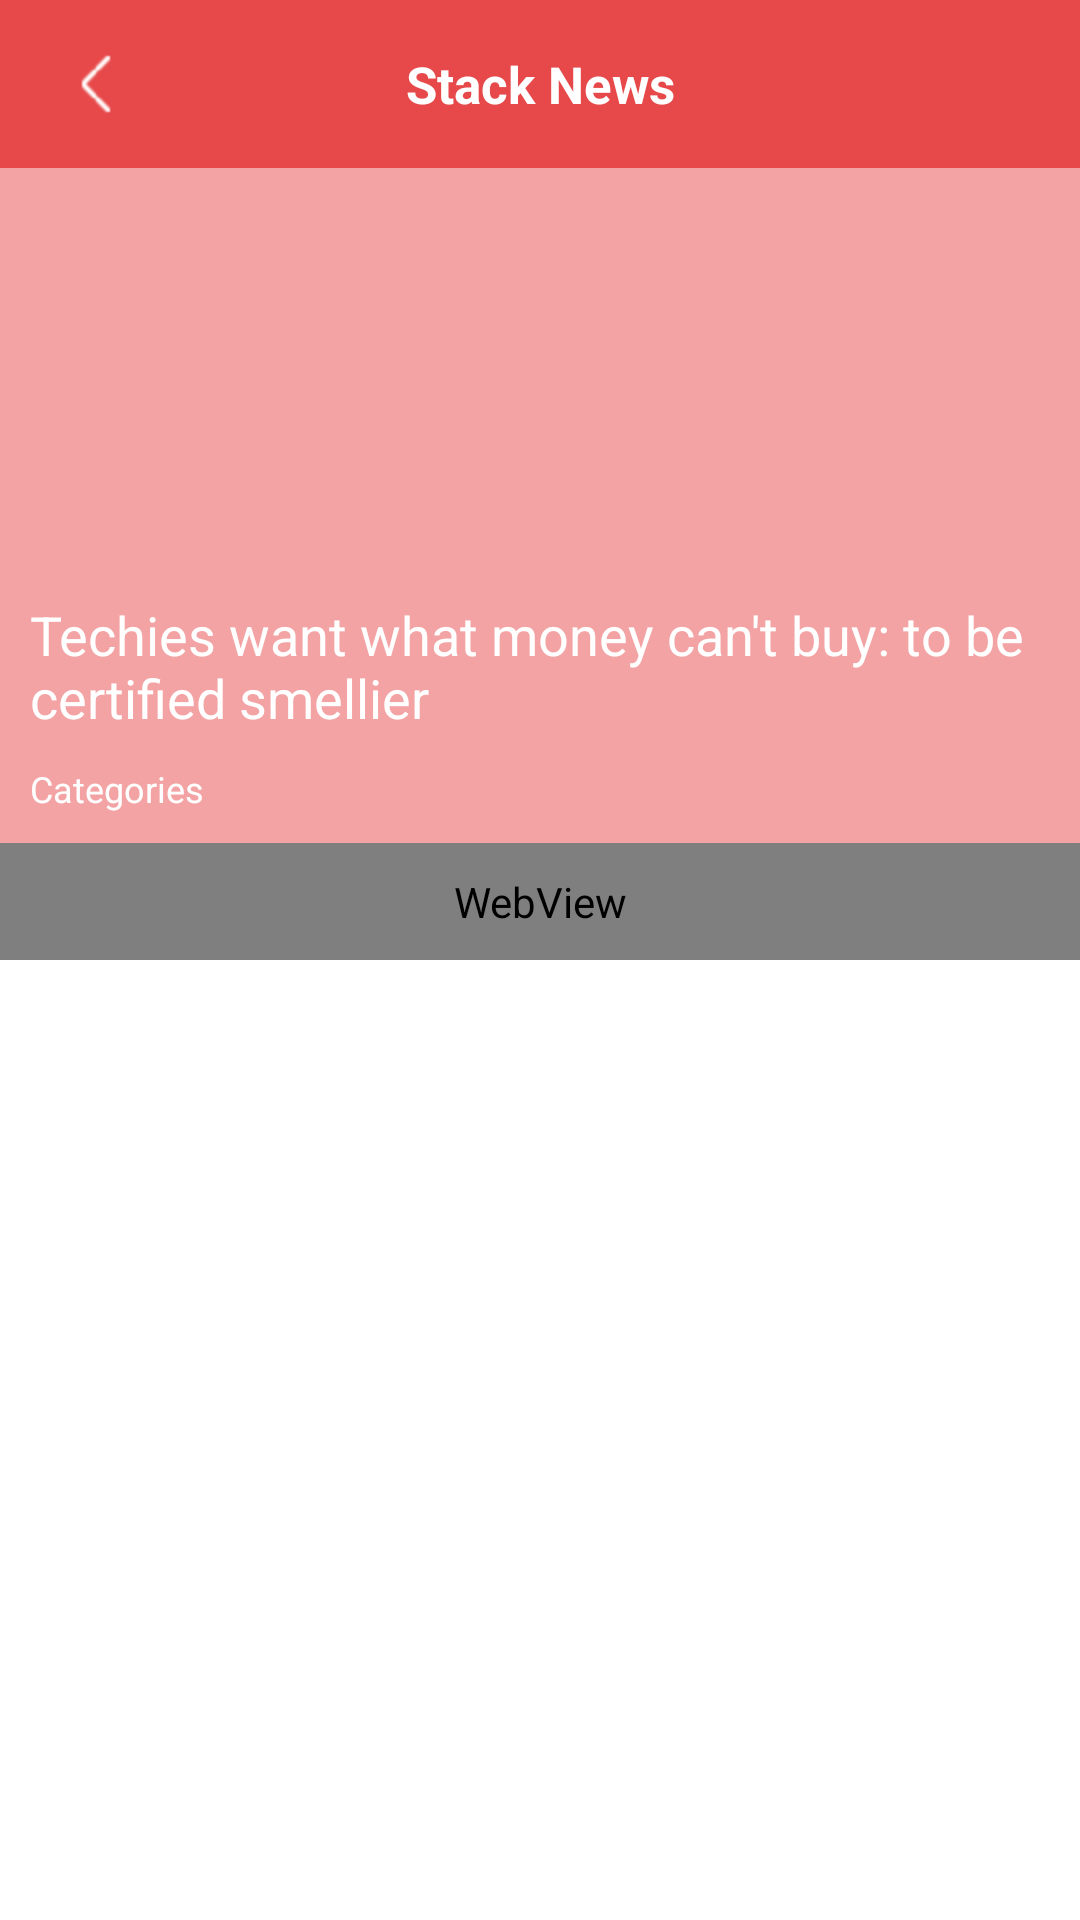

Screen size 1080 x 1920. Icon name, then its box in pixels as (x1, y1, x2, y2):
back: (81, 55, 111, 113)
